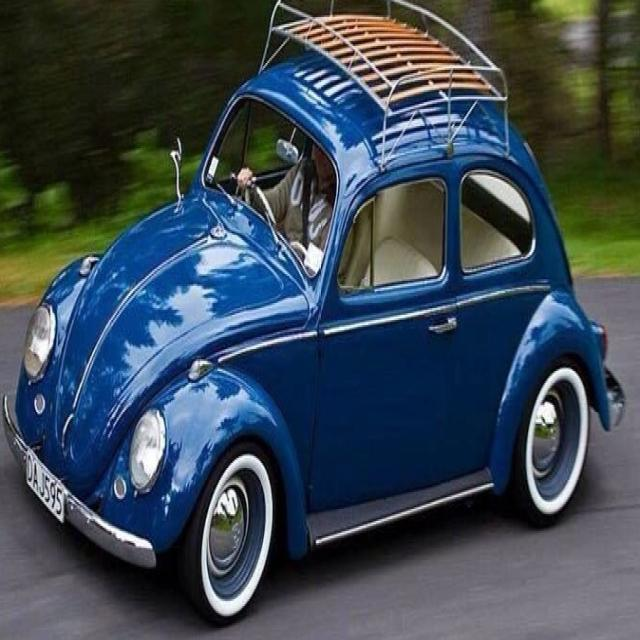blue: (22, 17, 608, 640)
